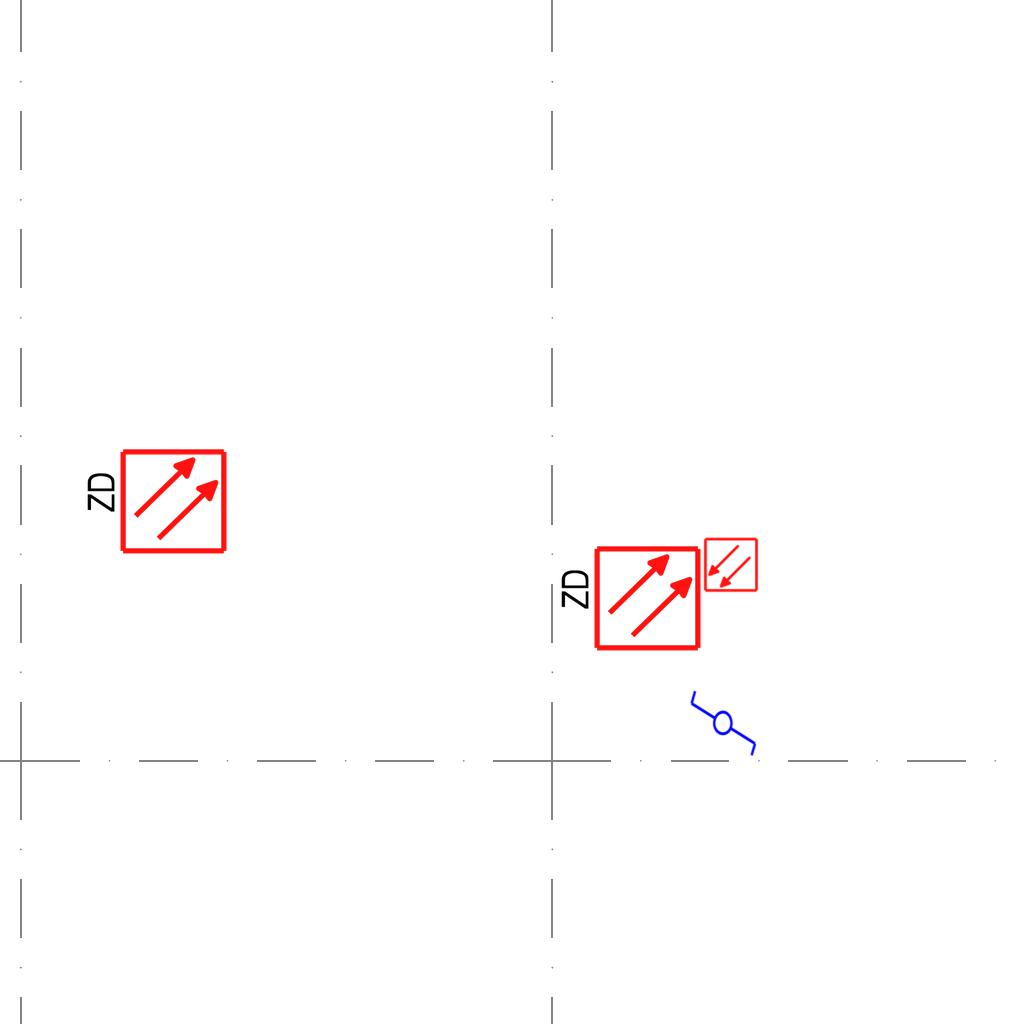RMO_Rauchmelder_optischer: (703, 537, 759, 593)
Wechselschalter: (688, 680, 760, 758)
ZD_Melder_in_Zwischendecke_mit_Revisionsoeffnung_mind_40_x_40_cm: (554, 543, 703, 657), (80, 446, 229, 560)
